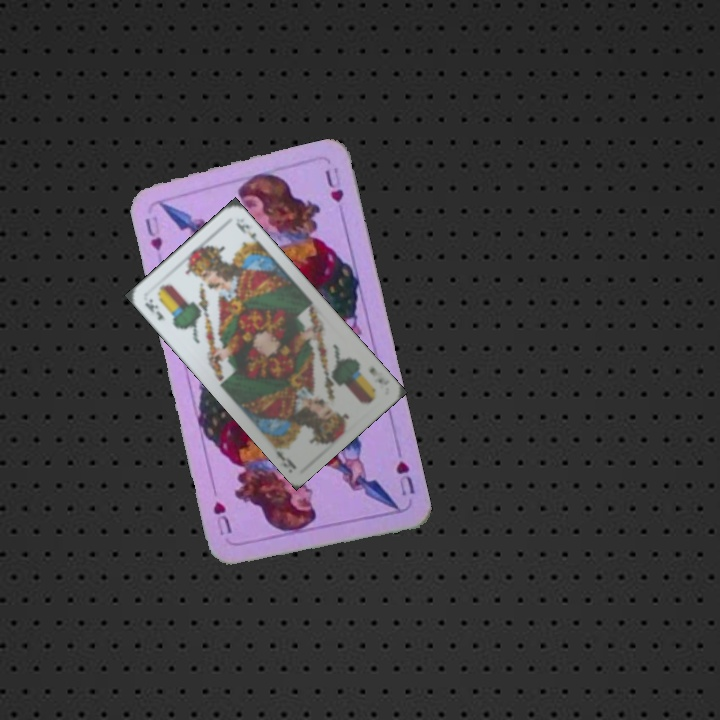EK: (141, 295, 168, 323), (365, 363, 392, 388)
HU: (392, 457, 418, 499), (141, 213, 165, 253)
